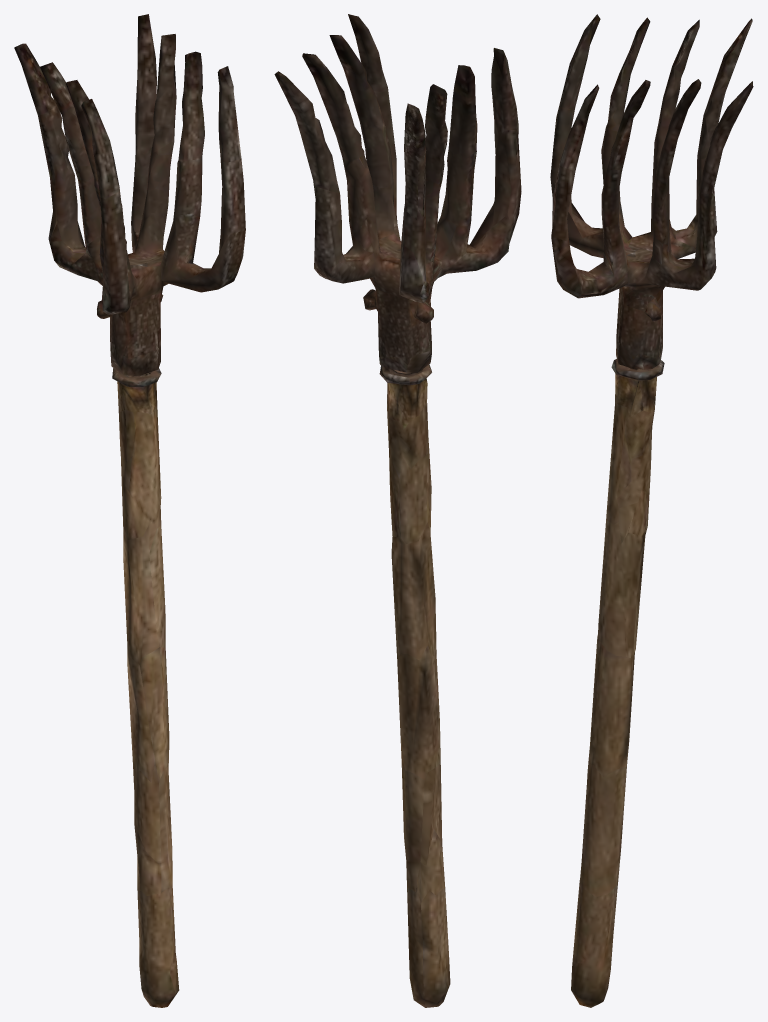
The model's file is melee_pitchfork_lod1.glb.
3 renders of one model, left to right at view 1: azimuth 30°, elevation 25°; view 2: azimuth 150°, elevation 25°; view 3: azimuth 270°, elevation 25°, orthographic. The views are drawn at different scales.
Parts seen in each view (by area): view 1: melee_pitchfork; view 2: melee_pitchfork; view 3: melee_pitchfork.
Part boxes in pixels (<box>): melee_pitchfork: <box>14,14,245,1007</box>; melee_pitchfork: <box>274,14,521,1007</box>; melee_pitchfork: <box>550,14,753,1007</box>.
Bounding box in the file's own units: 0.218 × 1.3 × 0.2507.
Materials: 1 (1 with a texture image).
